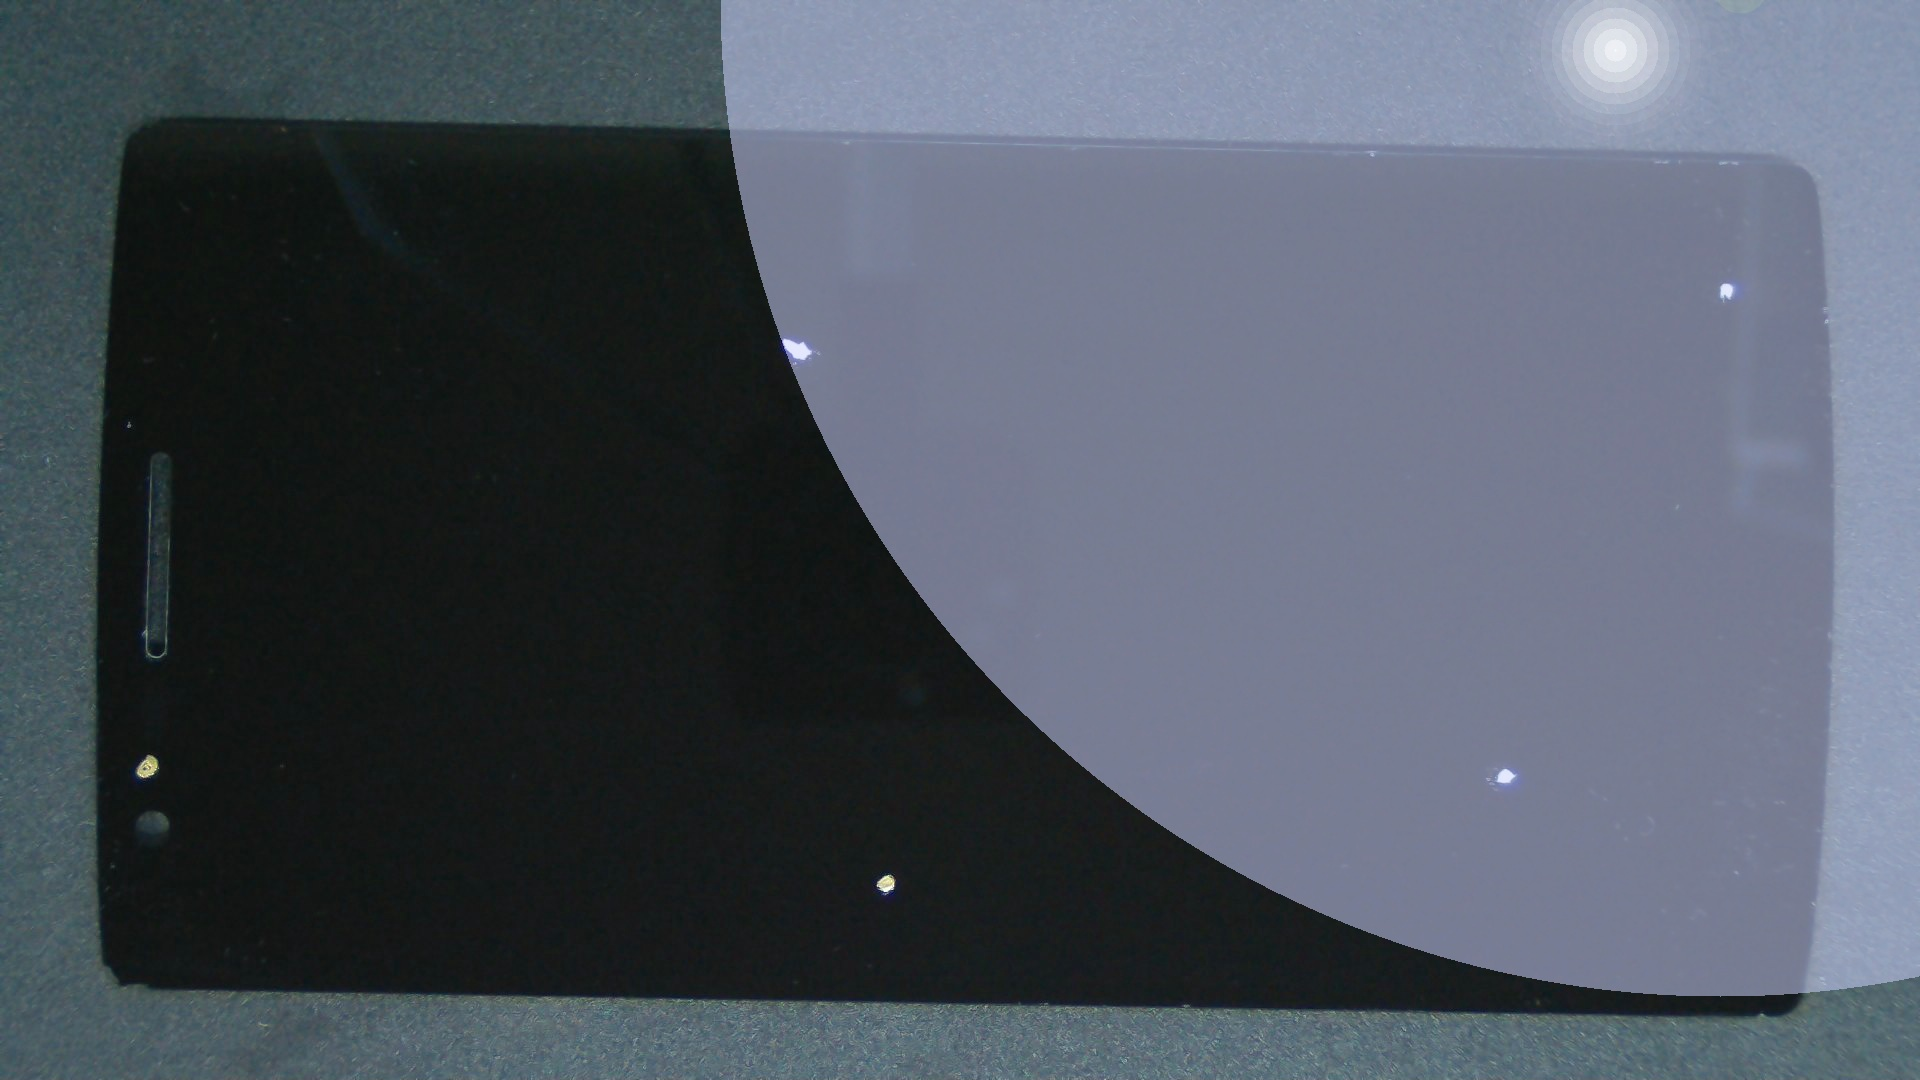oil: (752, 382, 1920, 1080), (444, 435, 1331, 1080), (862, 138, 1920, 425), (392, 167, 1174, 506), (73, 376, 219, 1080)
